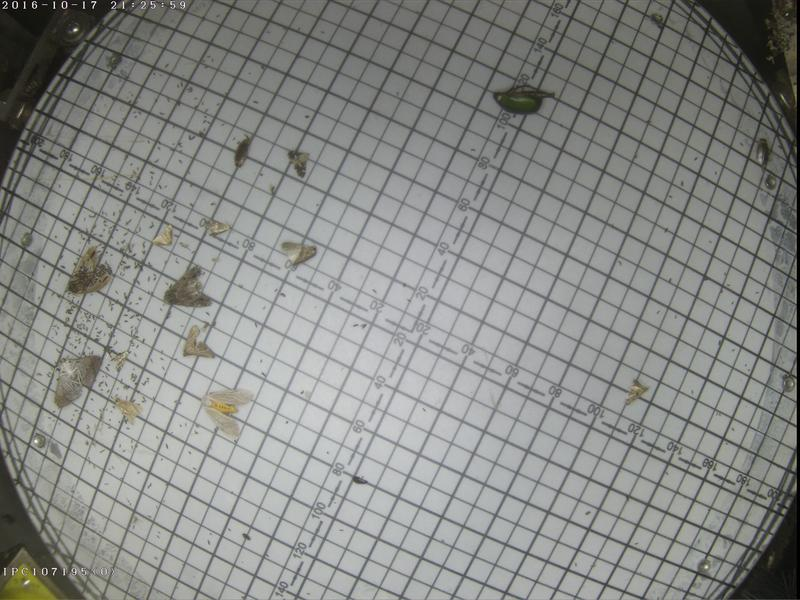Spodoptera litura: (282, 237, 316, 262)
